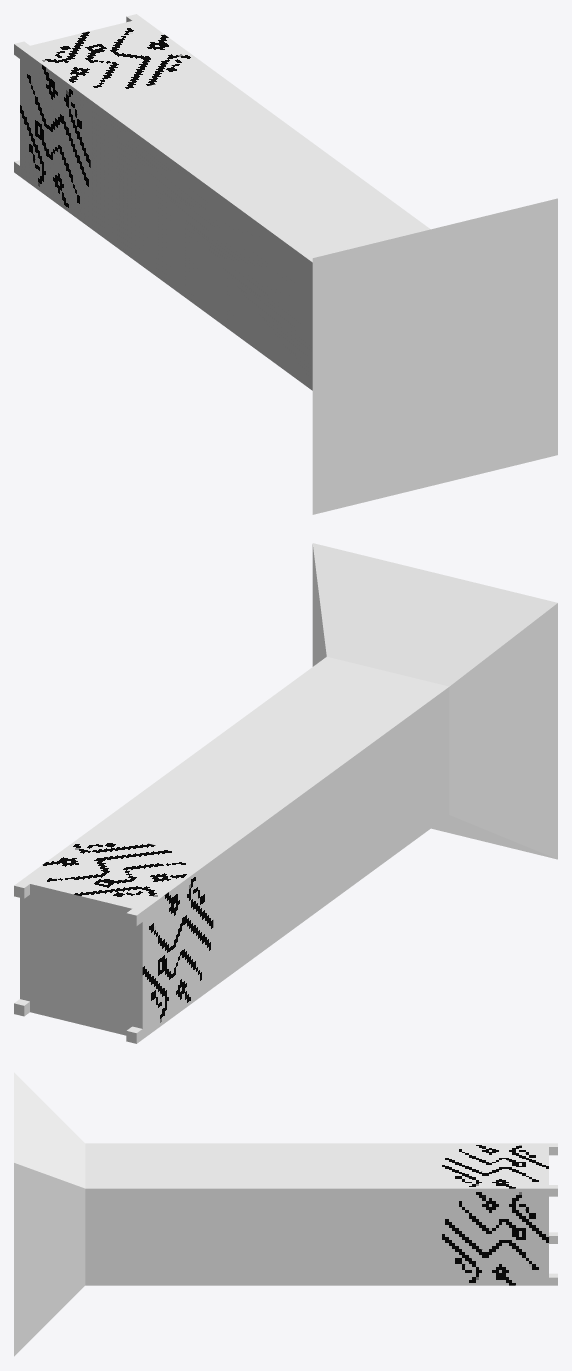
Rendered from tower01.fbx.
3 renders of one model, top to bottom at view 1: azimuth 30°, elevation 25°; view 2: azimuth 150°, elevation 25°; view 3: azimuth 270°, elevation 25°, orthographic. The views are drawn at different scales.
Visible parts, largest first — view 1: tower; view 2: tower; view 3: tower.
Part boxes in pixels (x1=…): tower: x1=20, y1=18, x2=557, y2=514; tower: x1=20, y1=543, x2=557, y2=1038; tower: x1=14, y1=1072, x2=548, y2=1356.
Size of the model in its own units: 600 by 600 by 1525.
Materials: 5 (1 with a texture image).
